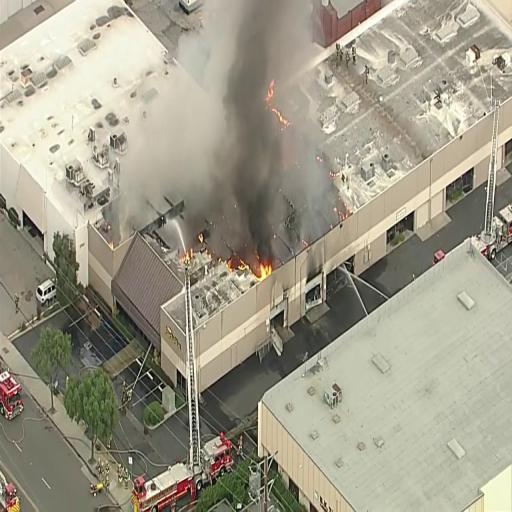smoke: (230, 0, 281, 240)
